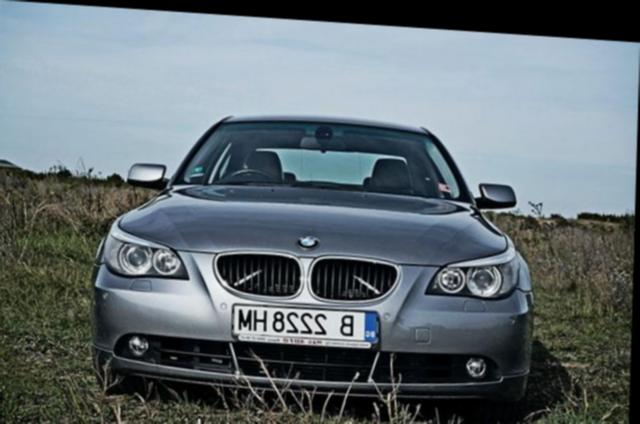License_Plate: (232, 306, 379, 349)
